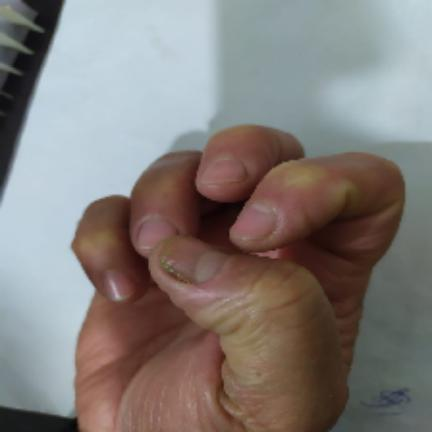Nail: (160, 235, 229, 284), (231, 203, 277, 240), (198, 159, 246, 185), (138, 219, 177, 250), (104, 270, 136, 301)
